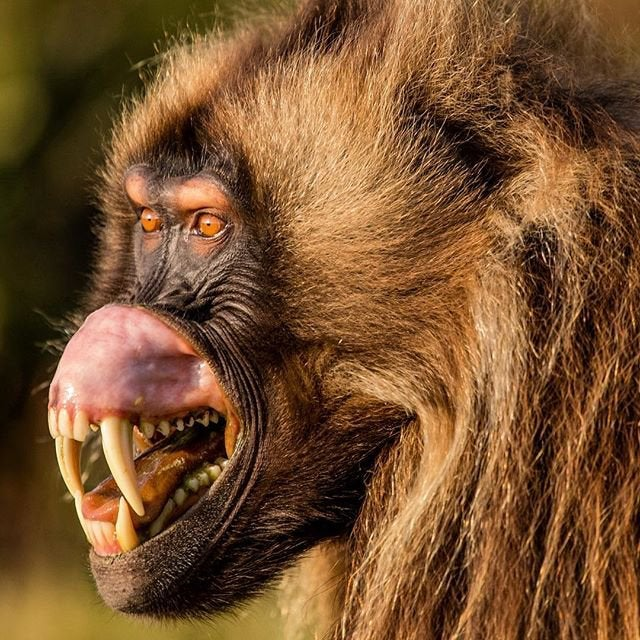Gelada: (54, 4, 632, 629)
